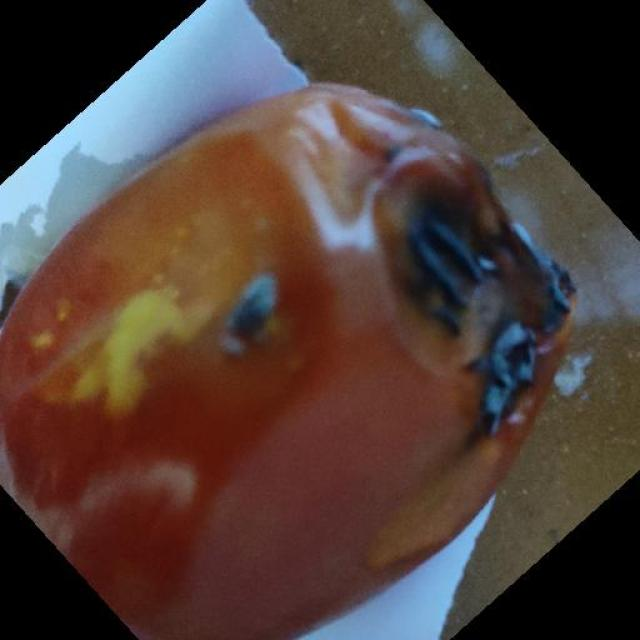Stale_tomato: (33, 85, 566, 619)
